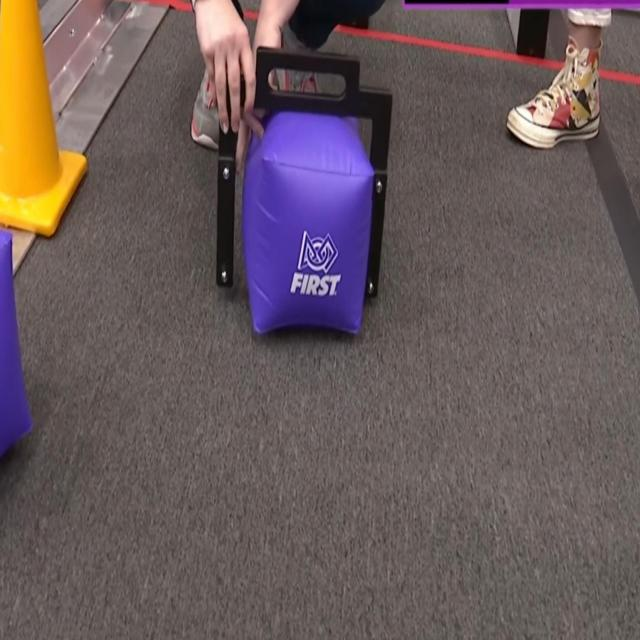frc_cone: (0, 0, 87, 235)
frc_cube: (244, 95, 371, 344), (0, 228, 30, 468)
